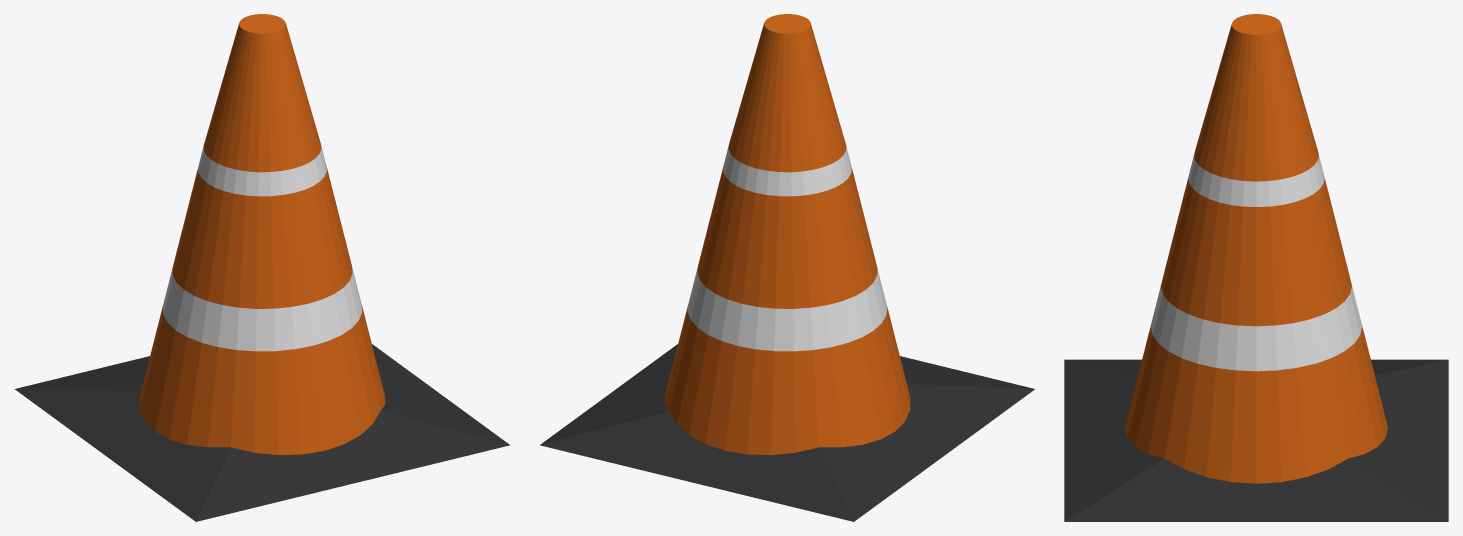
Rendered from orange cone.glb.
3 views of the same model, side by side, from view 1: azimuth 30°, elevation 25°; view 2: azimuth 150°, elevation 25°; view 3: azimuth 270°, elevation 25° (orthographic). The views are drawn at different scales.
Parts seen in each view (by area): view 1: Cube; view 2: Cube; view 3: Cube.
Part boxes in pixels (x1,y1,x2,y2): Cube: [15, 14, 509, 521]; Cube: [540, 14, 1034, 521]; Cube: [1064, 14, 1448, 521].
Size of the model in its own units: 1.5 by 1.8 by 1.5.
